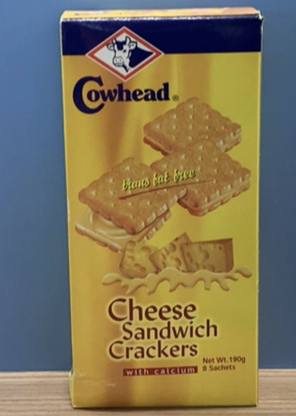crackers_150g: (73, 36, 255, 387)
